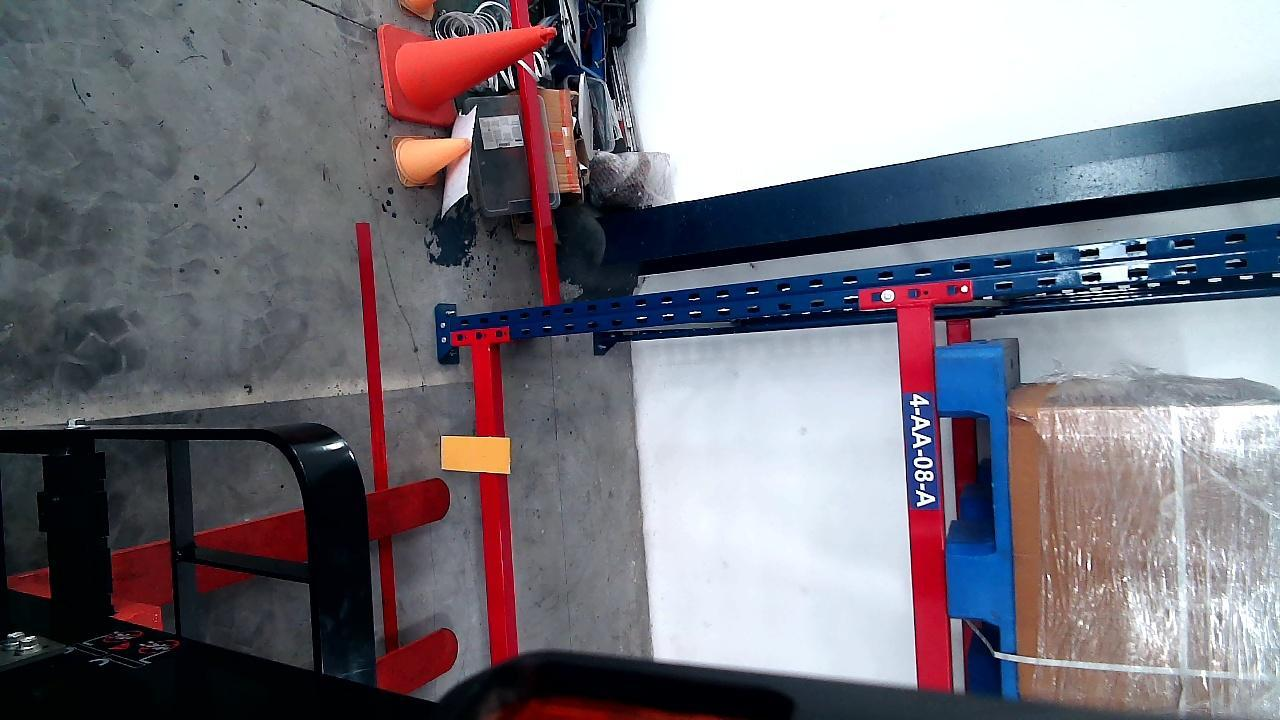red_line: (358, 227, 387, 488)
